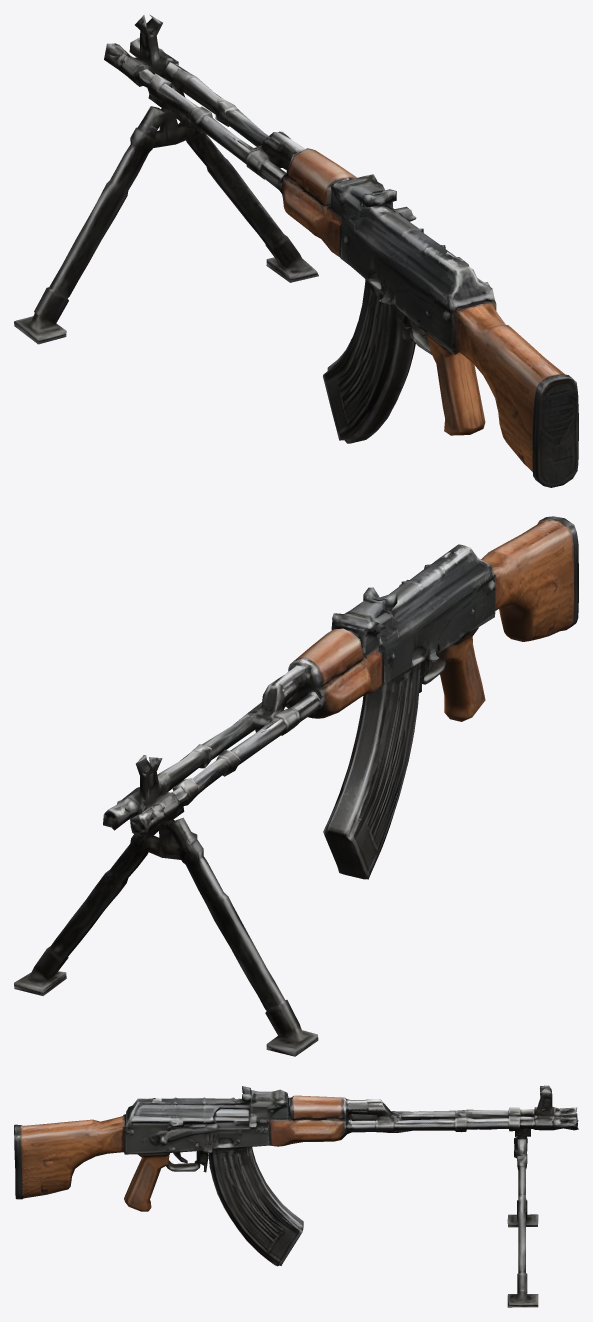
File: w_rpk.glb
3 views of the same model, one above another, from view 1: azimuth 30°, elevation 25°; view 2: azimuth 150°, elevation 25°; view 3: azimuth 270°, elevation 25° (orthographic). The views are drawn at different scales.
Parts seen in each view (by area): view 1: tripo_node_9265e87c-7188-4146-9fff-b33bb92488e6; view 2: tripo_node_9265e87c-7188-4146-9fff-b33bb92488e6; view 3: tripo_node_9265e87c-7188-4146-9fff-b33bb92488e6.
Boxes of the visible parts, left/top/right/bottom form: tripo_node_9265e87c-7188-4146-9fff-b33bb92488e6: left=14, top=14, right=578, bottom=487; tripo_node_9265e87c-7188-4146-9fff-b33bb92488e6: left=14, top=516, right=578, bottom=1056; tripo_node_9265e87c-7188-4146-9fff-b33bb92488e6: left=14, top=1085, right=578, bottom=1307.
Size of the model in its own units: 0.3725 by 0.3466 by 1.
Materials: 1 (1 with a texture image).
